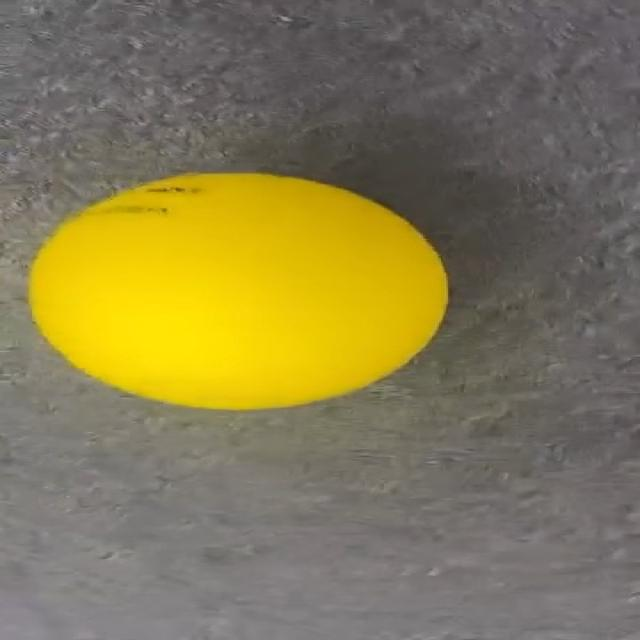Fuels: (32, 174, 444, 407)
